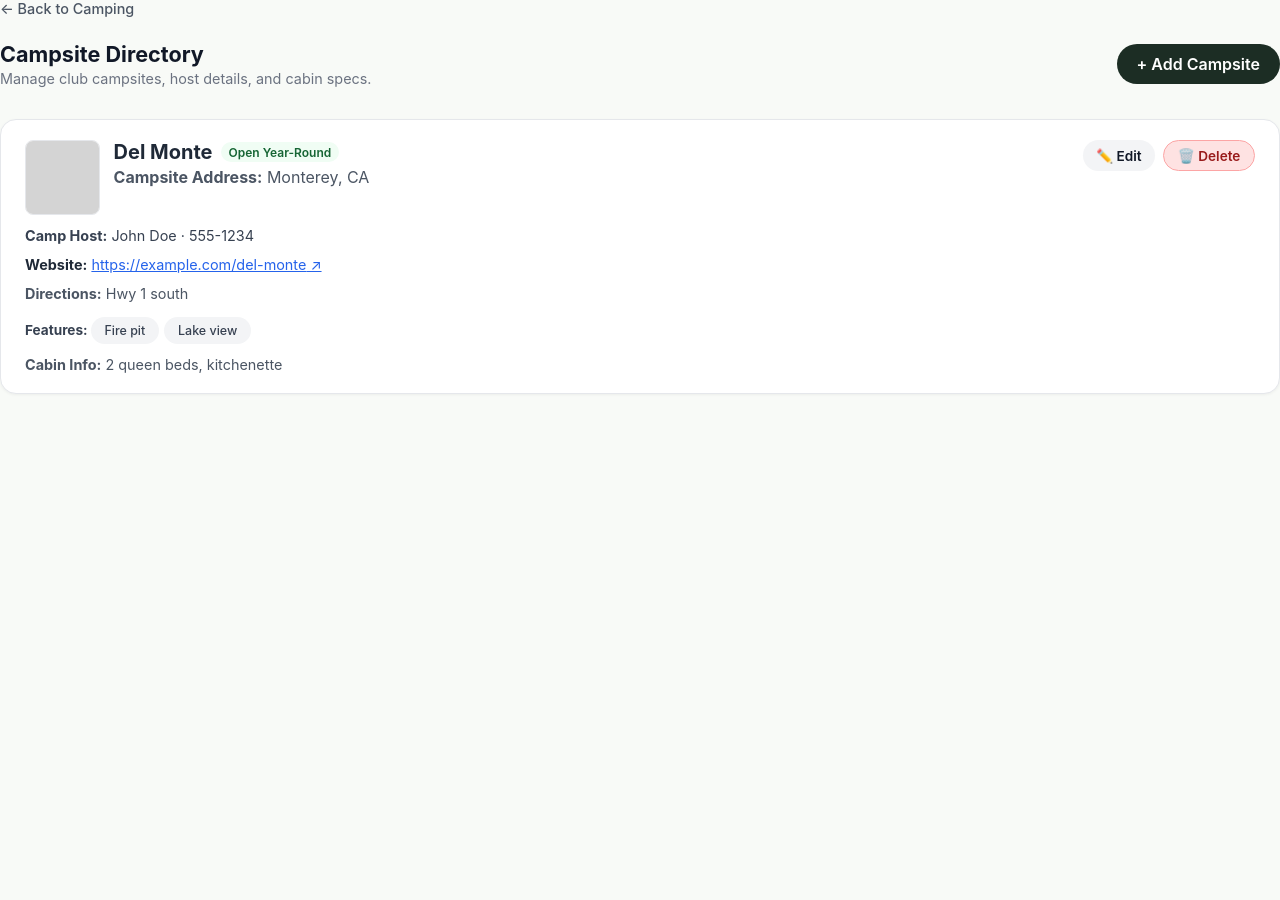
AdminCampsitesPage › displays error message when saving campsite fails
Check: the heading "Del Monte" is shown, box [114,140,212,164]
Click the button "+ Add Campsite".
click(1198, 64)  # box [1116,44,1279,84]
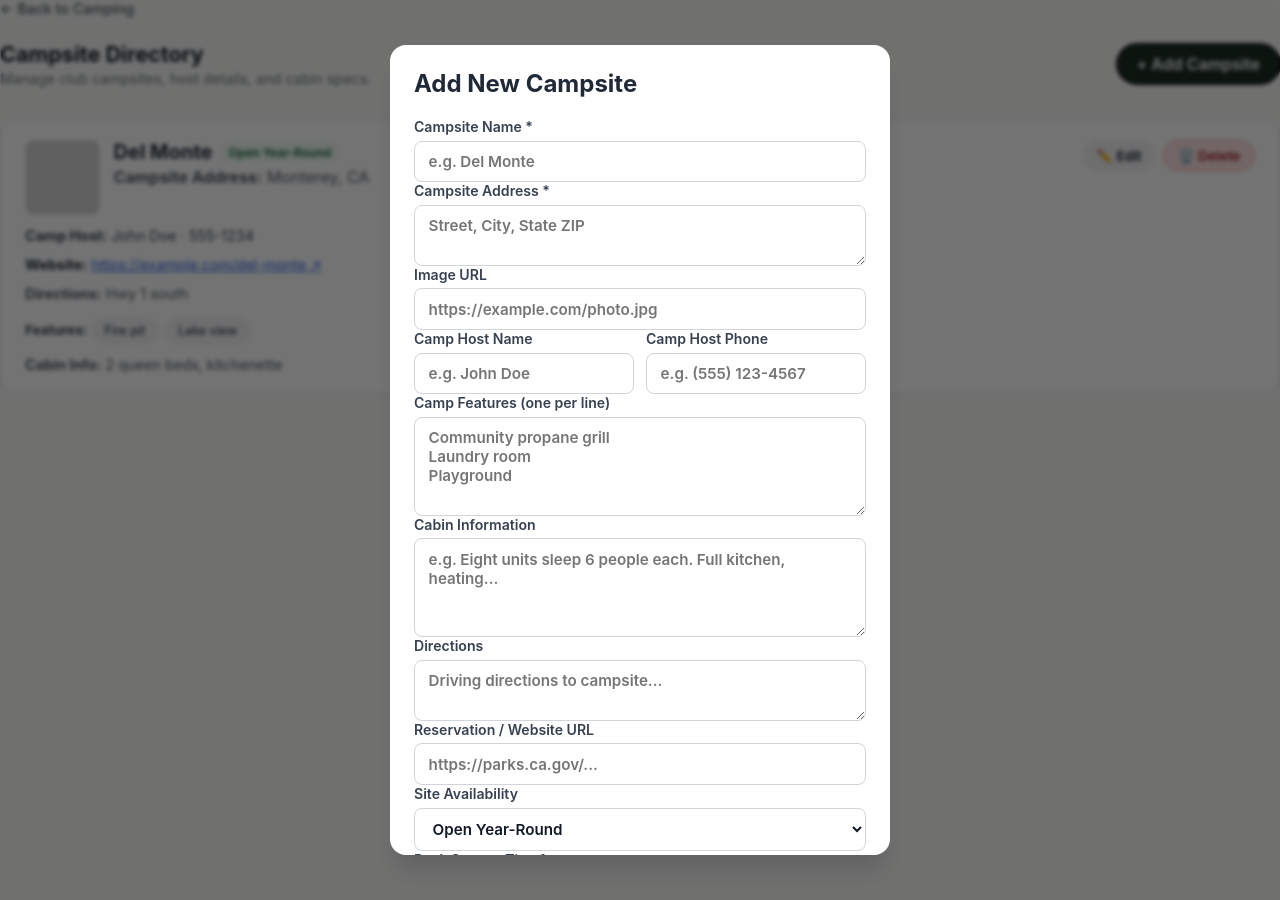
Type "Invalid Site" into the field labelled "Campsite Name *".
click(640, 161); type("Invalid Site")  # box [414,140,866,182]
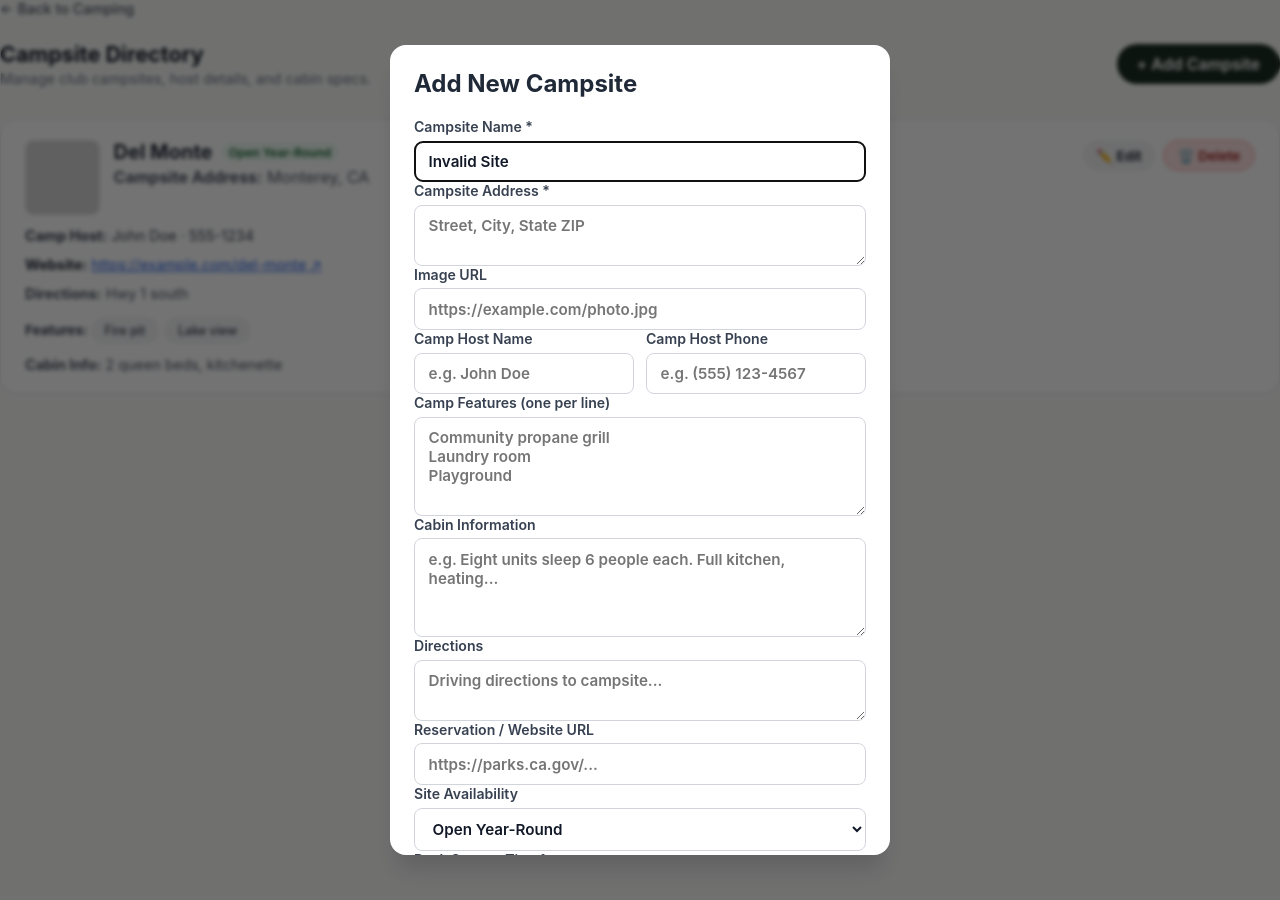
Type "Somewhere" into the text box labelled "Campsite Address *".
click(640, 235); type("Somewhere")  # box [414,205,866,266]
(page scrolled)
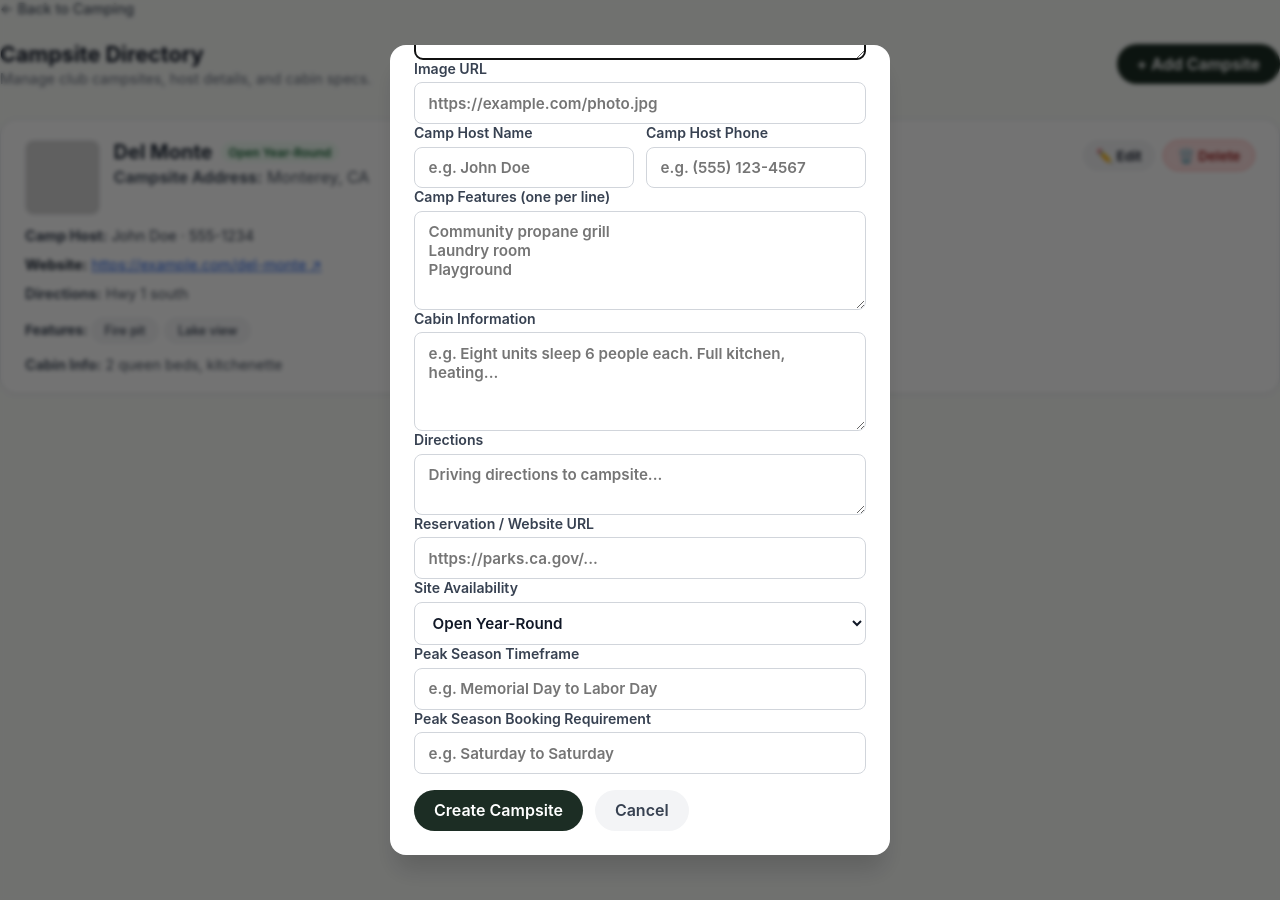
Click the button "Create Campsite".
click(498, 810)  # box [414,790,583,831]
(page scrolled)
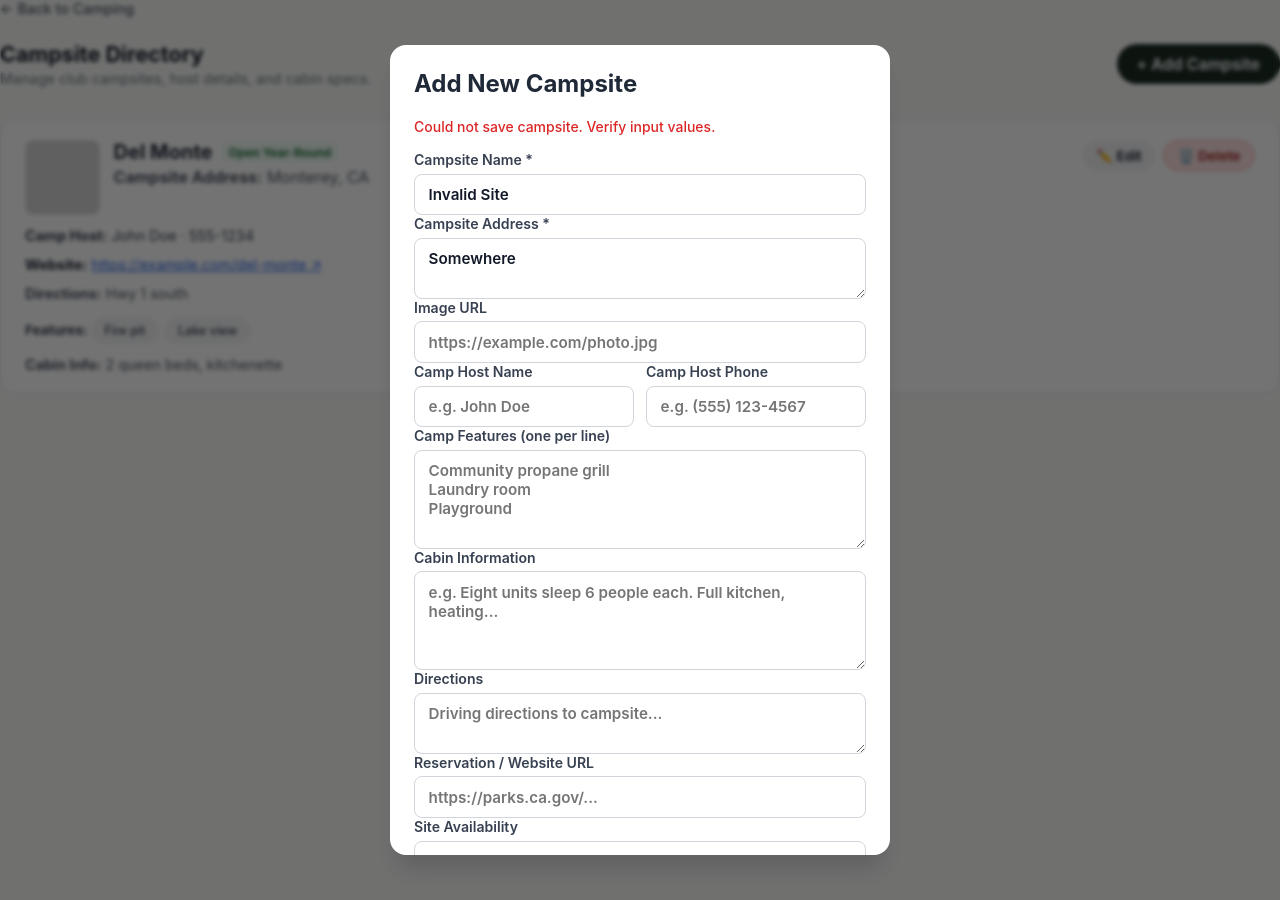
Check: the text "Could not save campsite. Verify input values." is shown, box [414,118,715,135]
